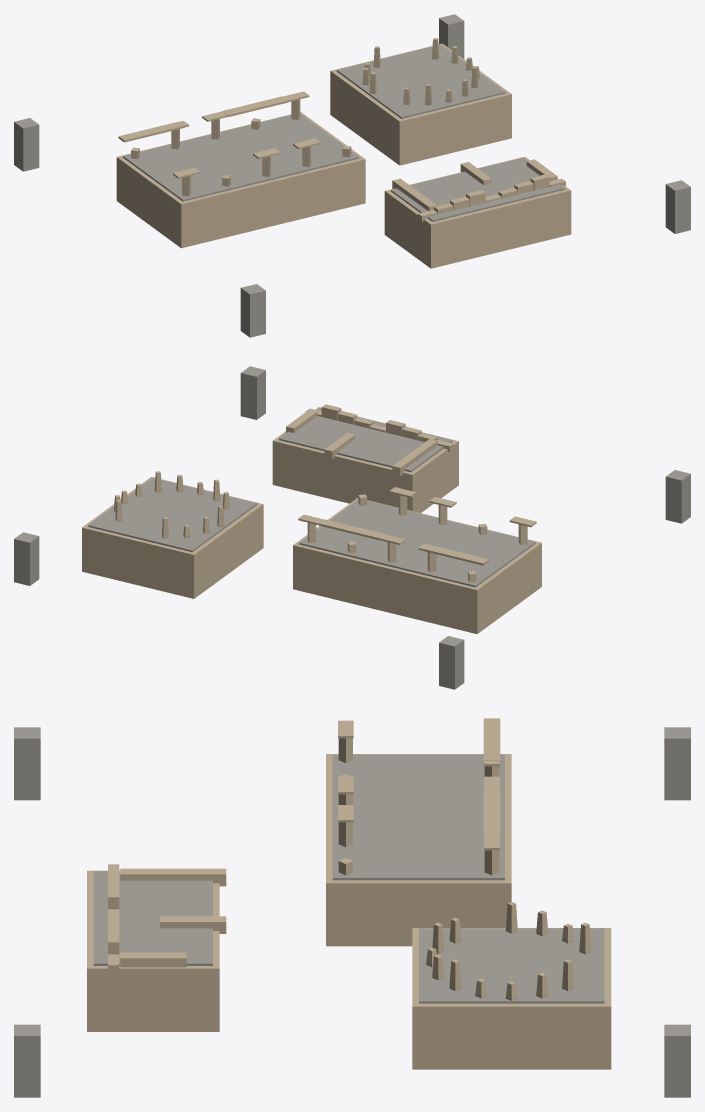
File: far.fbx
3 renders of one model, top to bottom at view 1: azimuth 30°, elevation 25°; view 2: azimuth 150°, elevation 25°; view 3: azimuth 270°, elevation 25°, orthographic. The views are drawn at different scales.
Parts seen in each view (by area): view 1: landmark-ancient_ruins/0/far; view 2: landmark-ancient_ruins/0/far; view 3: landmark-ancient_ruins/0/far.
Part boxes in pixels (left/top/right/bottom): landmark-ancient_ruins/0/far: left=14, top=14, right=690, bottom=337; landmark-ancient_ruins/0/far: left=14, top=366, right=690, bottom=689; landmark-ancient_ruins/0/far: left=14, top=718, right=690, bottom=1097.
Size of the model in its own units: 110 by 16.25 by 102.
